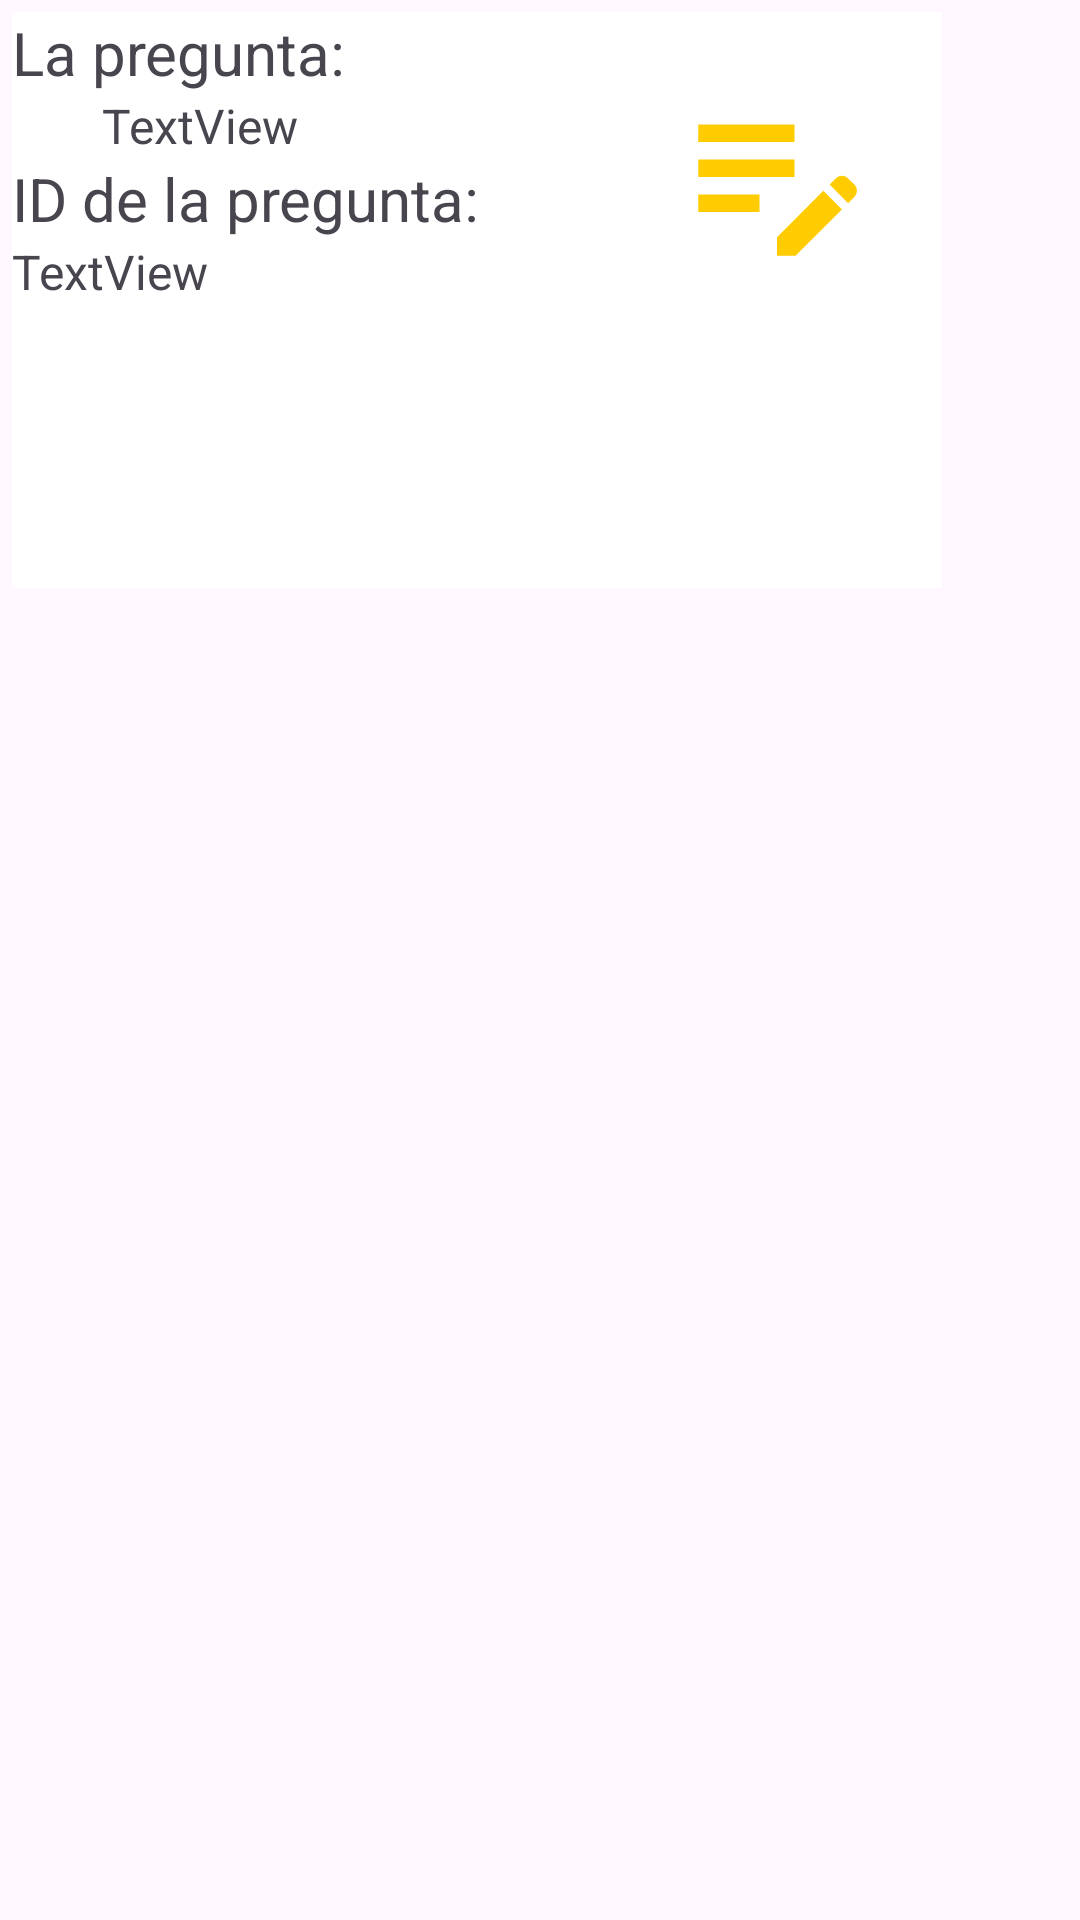

Screen size 1080x1920. Icon name, then its center in pixels as (x,y):
edit note: (777,190)
